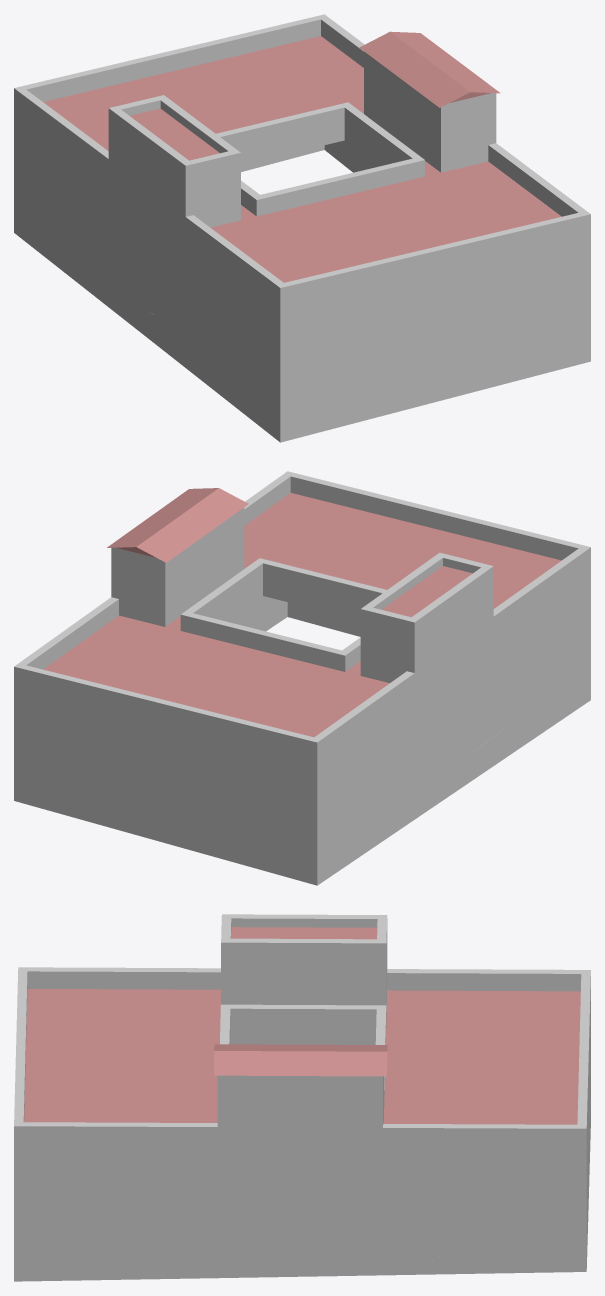
File: LOD_Block_4_41.glb
3 views of the same model, one above another, from view 1: azimuth 30°, elevation 25°; view 2: azimuth 150°, elevation 25°; view 3: azimuth 270°, elevation 25° (orthographic). The views are drawn at different scales.
Visible parts, largest first — view 1: mesh_CityEngineMaterial_631; view 2: mesh_CityEngineMaterial_631; view 3: mesh_CityEngineMaterial_631.
Part boxes in pixels (<box>): mesh_CityEngineMaterial_631: <box>14,14,590,442</box>; mesh_CityEngineMaterial_631: <box>14,471,590,885</box>; mesh_CityEngineMaterial_631: <box>14,914,590,1281</box>.
Bounding box in the file's own units: 20 × 12.95 × 30.08.
